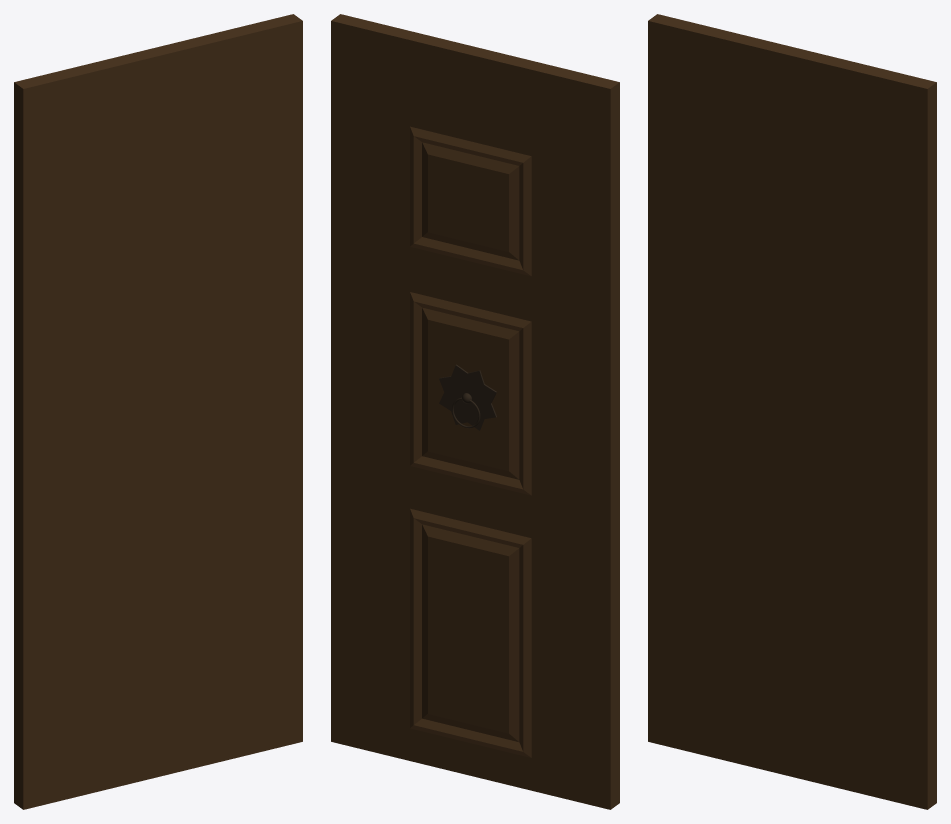
File: шкаф.FBX
3 renders of one model, left to right at view 1: azimuth 30°, elevation 25°; view 2: azimuth 150°, elevation 25°; view 3: azimuth 330°, elevation 25°, orthographic.
Visible parts, largest first — view 1: Object190; view 2: Object190; view 3: Object190.
Part boxes in pixels (left/top/right/bottom): Object190: left=14, top=14, right=302, bottom=809; Object190: left=331, top=14, right=619, bottom=809; Object190: left=648, top=14, right=936, bottom=809.
Size of the model in its own units: 690 by 1700 by 66.1.
